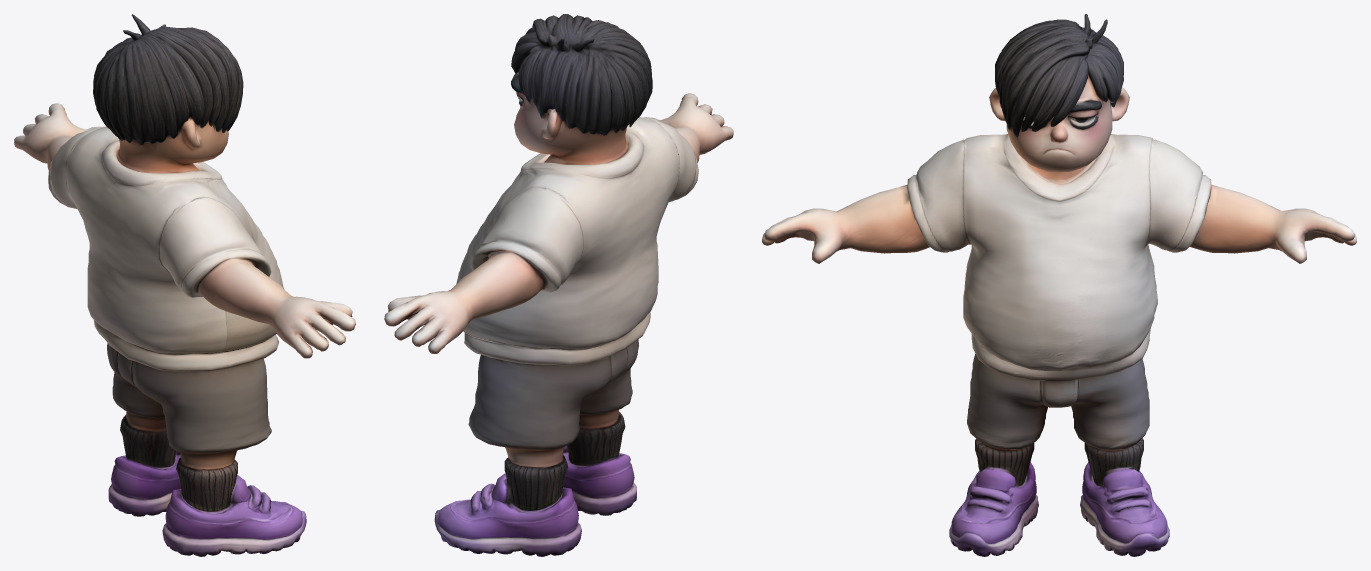
3 renders of one model, left to right at view 1: azimuth 30°, elevation 25°; view 2: azimuth 150°, elevation 25°; view 3: azimuth 270°, elevation 25°, orthographic. The views are drawn at different scales.
Visible parts, largest first — view 1: tripo_node_72deb8a8; view 2: tripo_node_72deb8a8; view 3: tripo_node_72deb8a8.
Part boxes in pixels (x1=…): tripo_node_72deb8a8: x1=14, y1=14, x2=355, y2=556; tripo_node_72deb8a8: x1=384, y1=14, x2=733, y2=556; tripo_node_72deb8a8: x1=762, y1=14, x2=1356, y2=556.
Bounding box in the file's own units: 33.07 × 91 × 100.
1 material, 1 textured.
